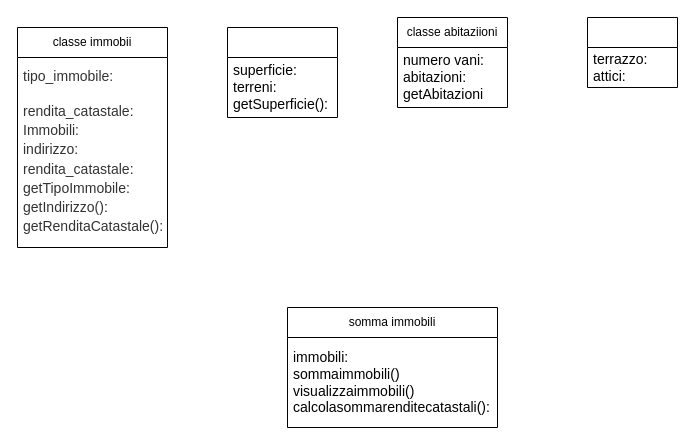
The diagram is 695 pixels wide and 445 high, and some of its shapes have lost their labels. Here are the shapes that lost their labels. From the top down, the box of each, then its label:
(226, 26, 338, 118): classe terreni
(586, 16, 678, 88): classe attici
